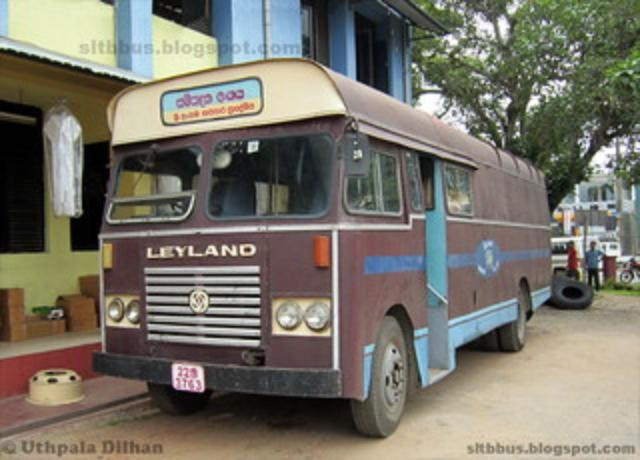bus: (94, 58, 552, 440)
